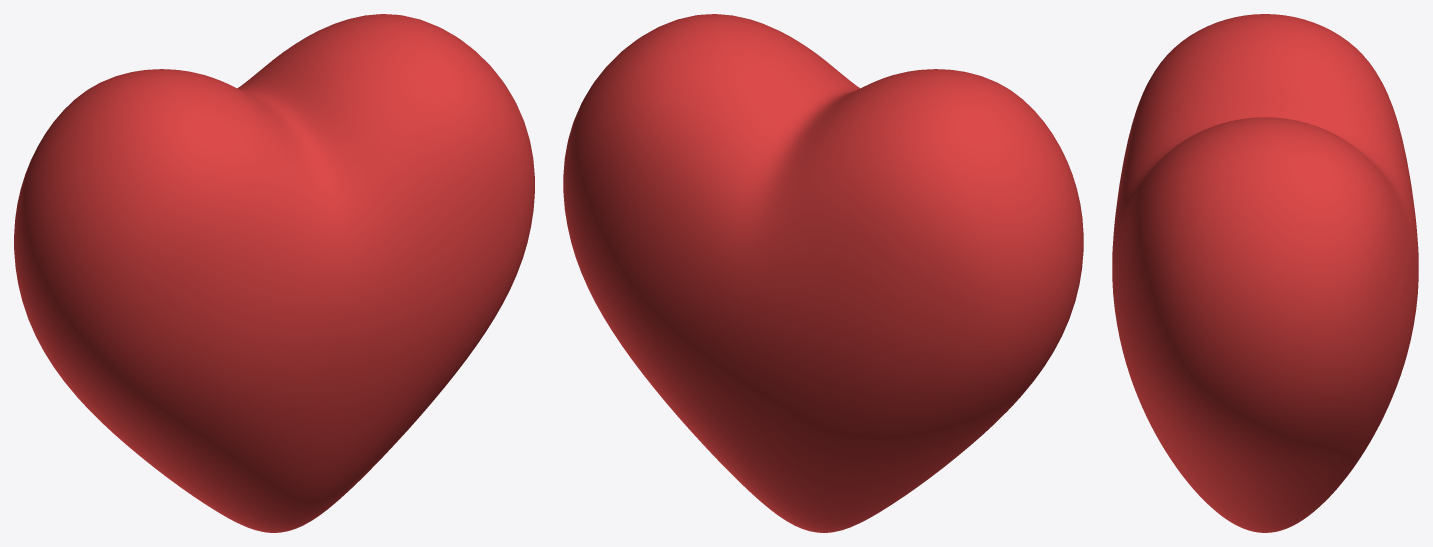
File: heart.fbx
3 renders of one model, left to right at view 1: azimuth 30°, elevation 25°; view 2: azimuth 150°, elevation 25°; view 3: azimuth 270°, elevation 25°, orthographic. The views are drawn at different scales.
Parts seen in each view (by area): view 1: 12190_Heart_v1_L3; view 2: 12190_Heart_v1_L3; view 3: 12190_Heart_v1_L3.
Part boxes in pixels (box(x1,y1,x2,y2)): 12190_Heart_v1_L3: box(14, 14, 534, 532); 12190_Heart_v1_L3: box(563, 14, 1083, 532); 12190_Heart_v1_L3: box(1112, 14, 1418, 532).
Bounding box in the file's own units: 2.23 × 2.09 × 1.29.
